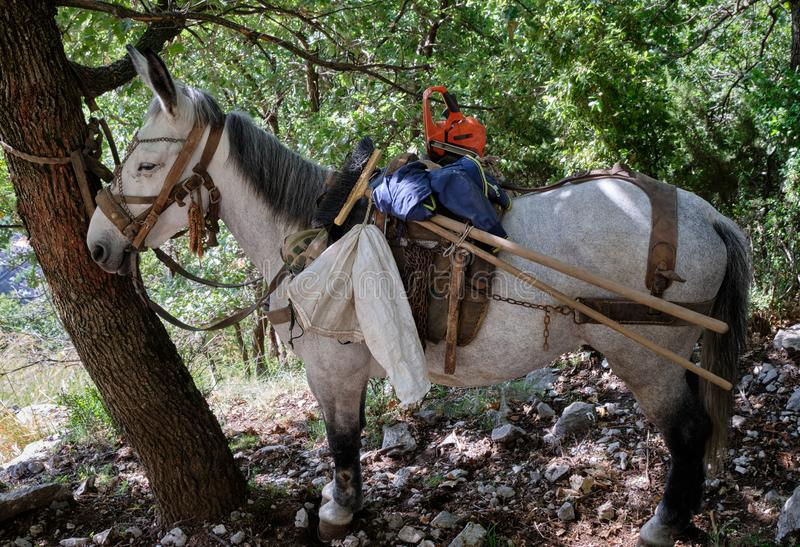equine: (66, 35, 766, 547)
